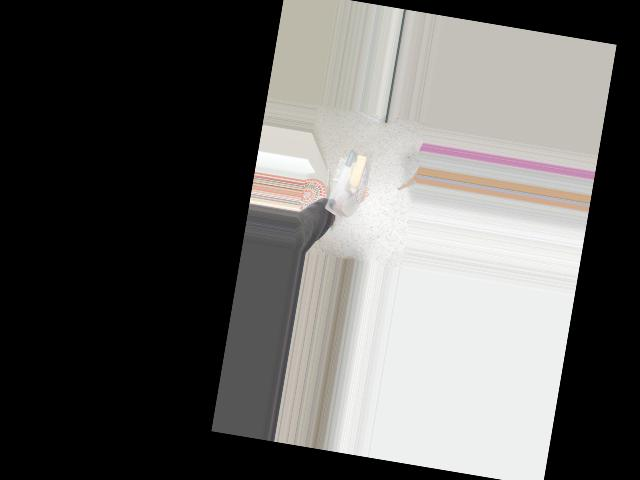cheese: (322, 146, 373, 219)
